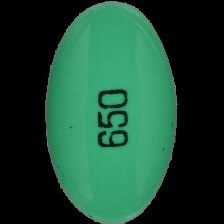68682-065: (0, 0, 224, 224)
